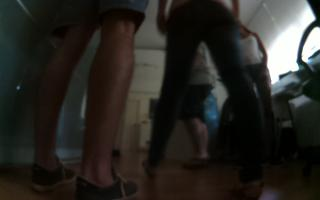person: (142, 1, 274, 200), (30, 1, 140, 200), (228, 10, 280, 170), (176, 39, 222, 174)
